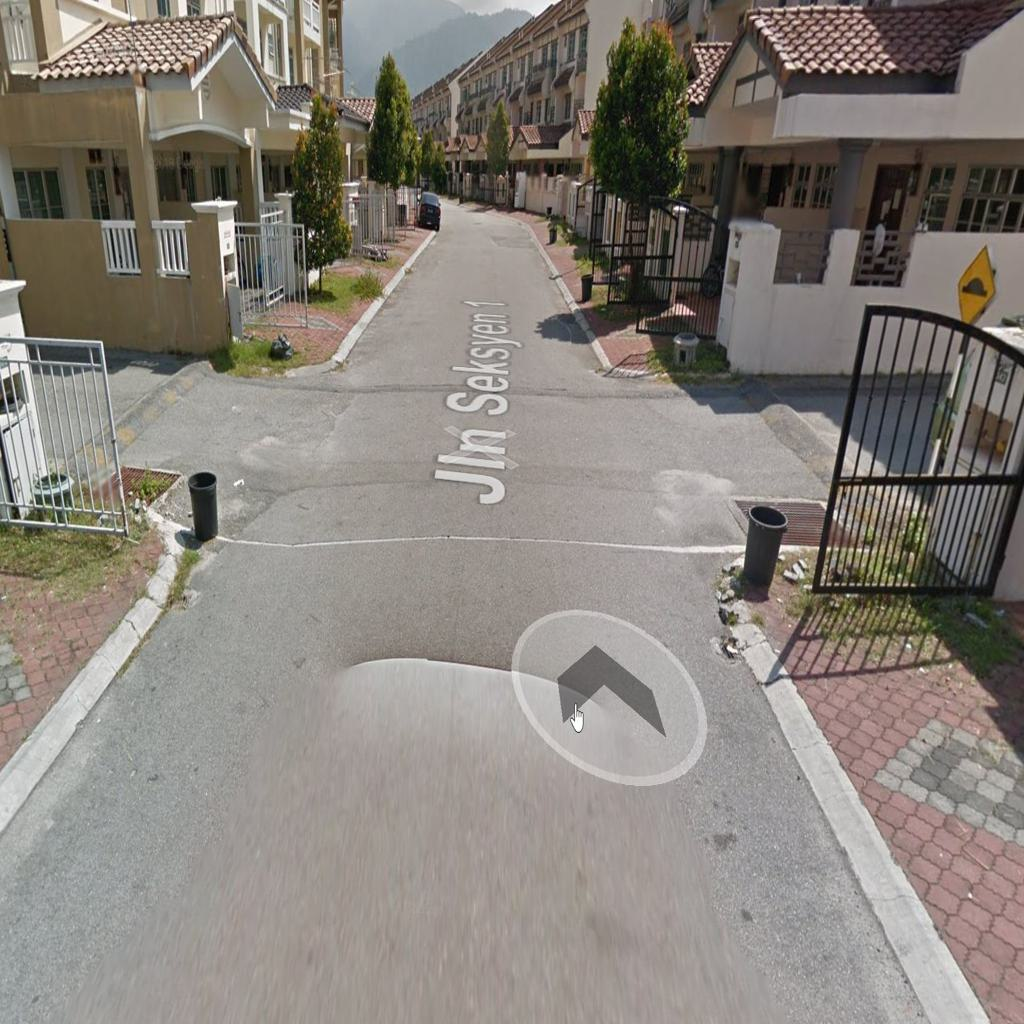Junction: (40, 316, 393, 600), (593, 351, 936, 606)
